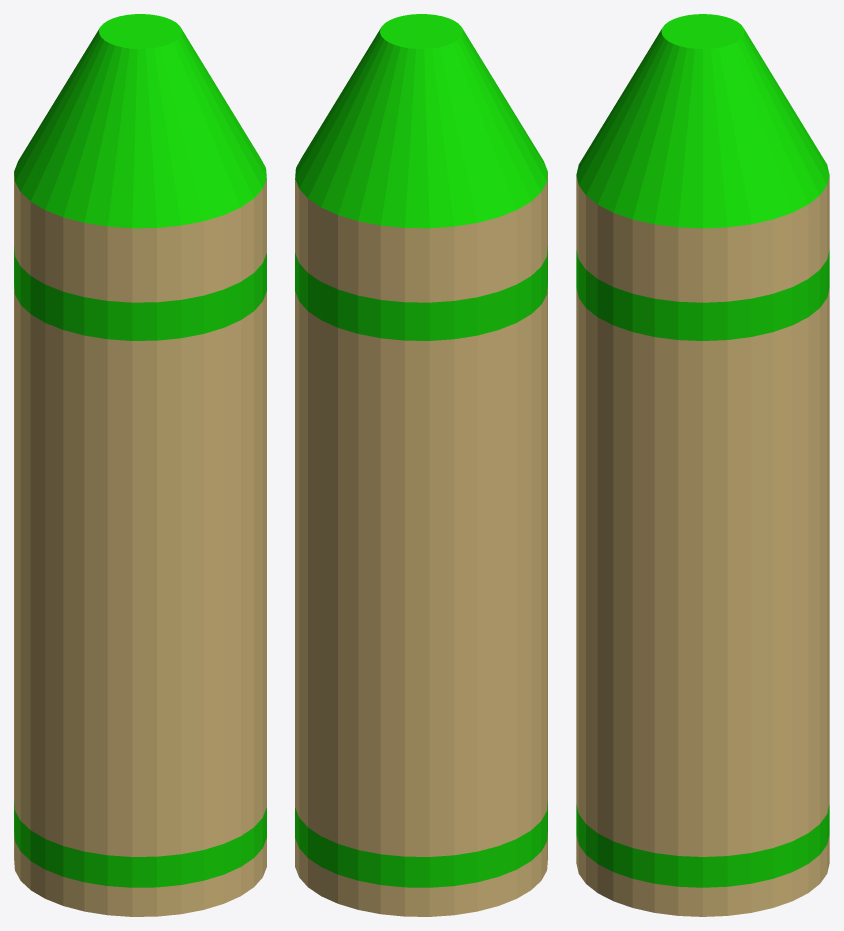
Rendered from crayon green.fbx.
The picture shows the model from 3 angles, left to right: view 1: azimuth 30°, elevation 25°; view 2: azimuth 150°, elevation 25°; view 3: azimuth 270°, elevation 25°; orthographic projection.
Parts seen in each view (by area): view 1: Cylinder; view 2: Cylinder; view 3: Cylinder.
Part boxes in pixels (x1=…): Cylinder: x1=14, y1=14, x2=266, y2=916; Cylinder: x1=295, y1=14, x2=547, y2=916; Cylinder: x1=576, y1=14, x2=829, y2=916.
Size of the model in its own units: 20 by 72.49 by 20.
